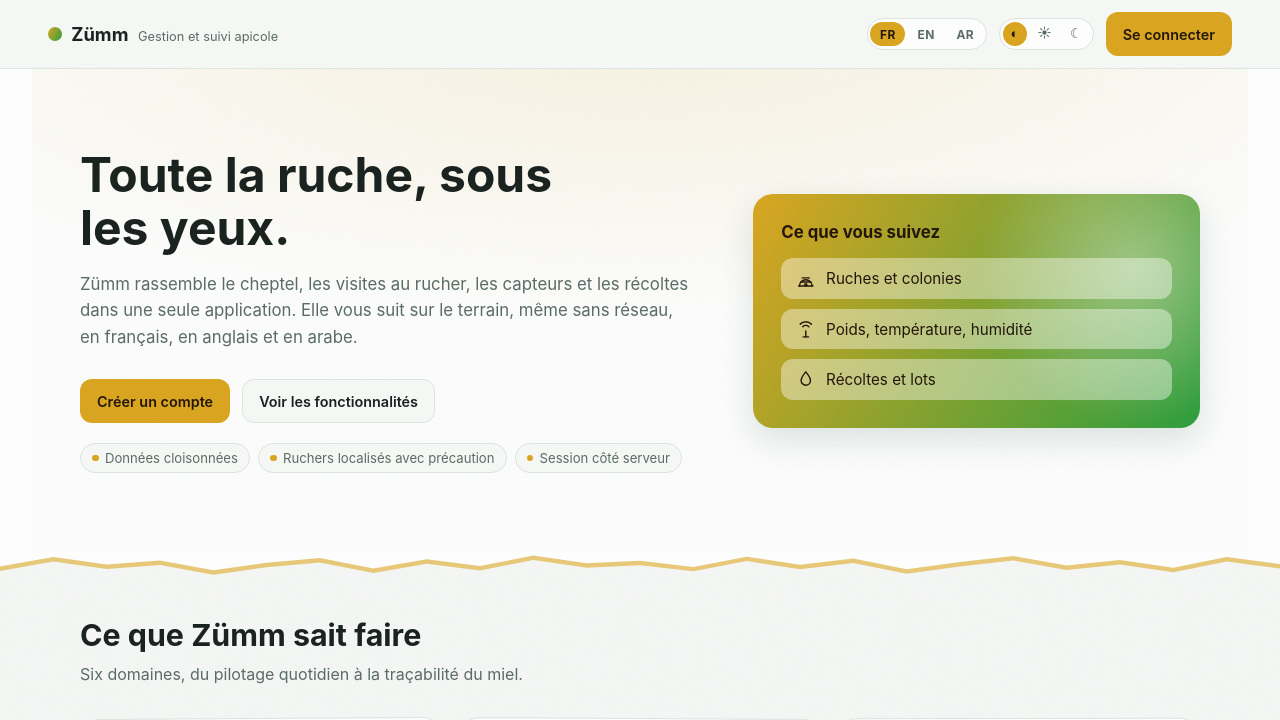
page d’accueil publique › se traduit : les fonctionnalités suivent la langue choisie
Click the button "EN": (926, 34) [908, 22, 944, 46]
(page scrolled)
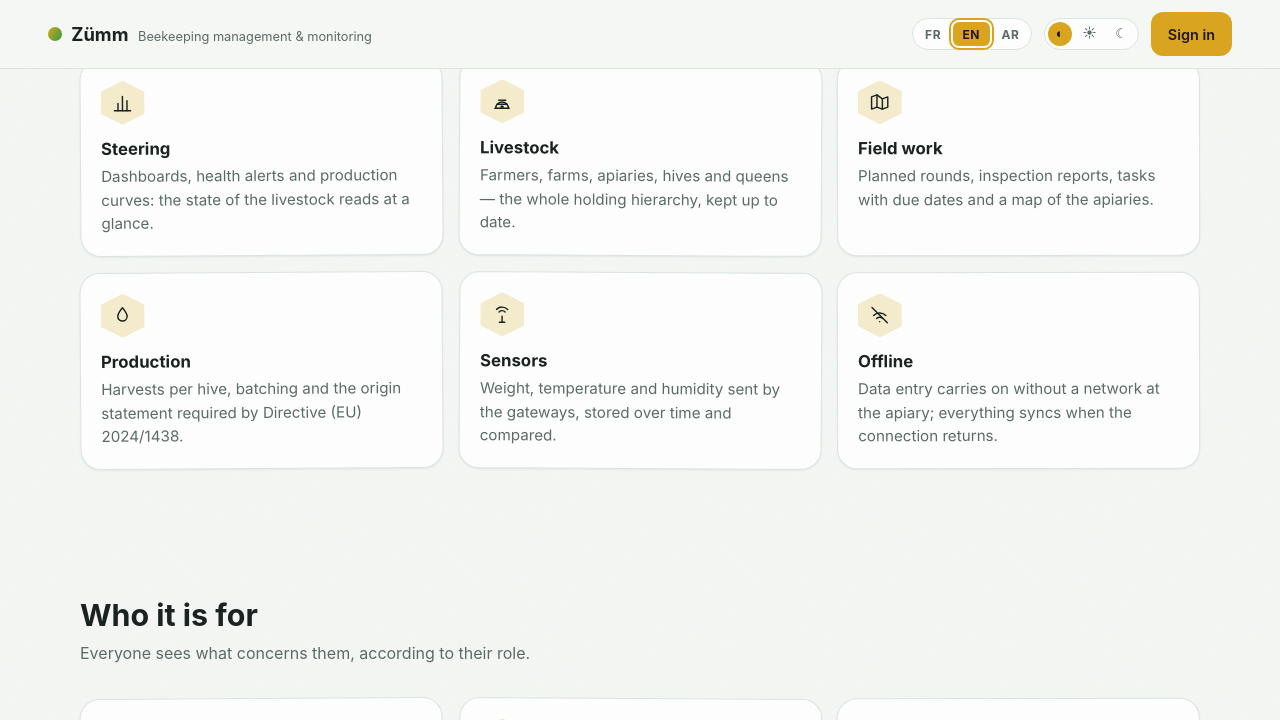
Now the heading "Offline" is shown, box [858, 351, 914, 371]
